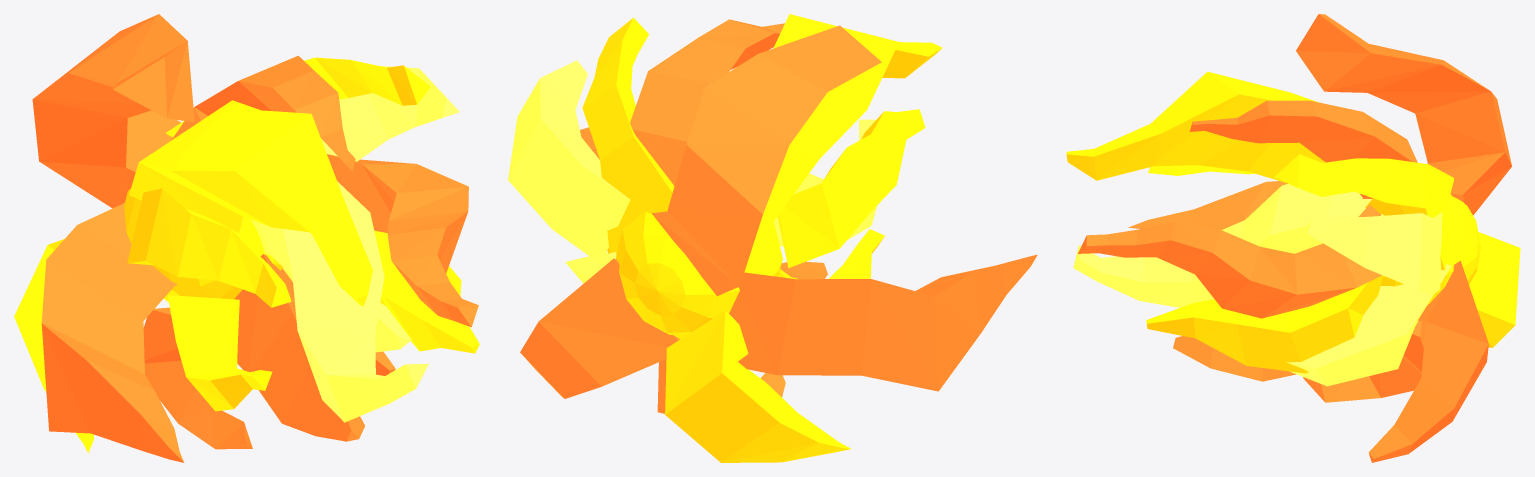
File: fire-4.glb
The picture shows the model from 3 angles, left to right: view 1: azimuth 30°, elevation 25°; view 2: azimuth 150°, elevation 25°; view 3: azimuth 270°, elevation 25°; orthographic projection. The views are drawn at different scales.
Bounding box in the file's own units: 0.8919 × 0.8452 × 0.9912.
